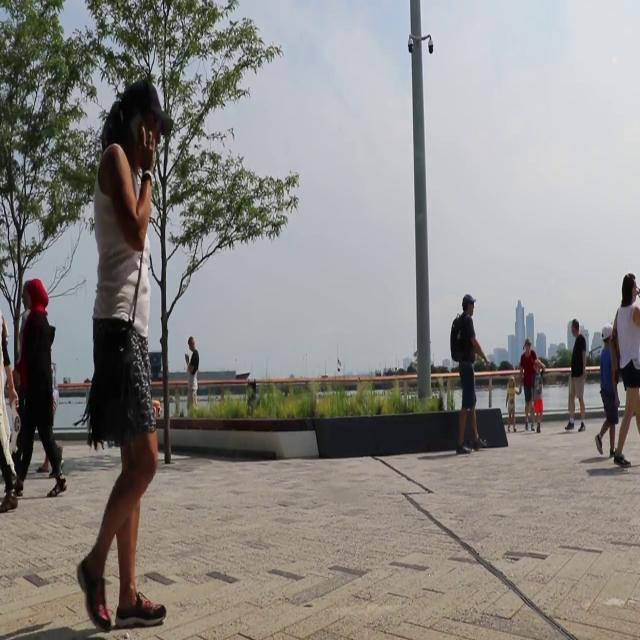normal: (76, 76, 175, 632), (13, 277, 69, 506), (445, 292, 489, 455), (564, 312, 590, 436)
